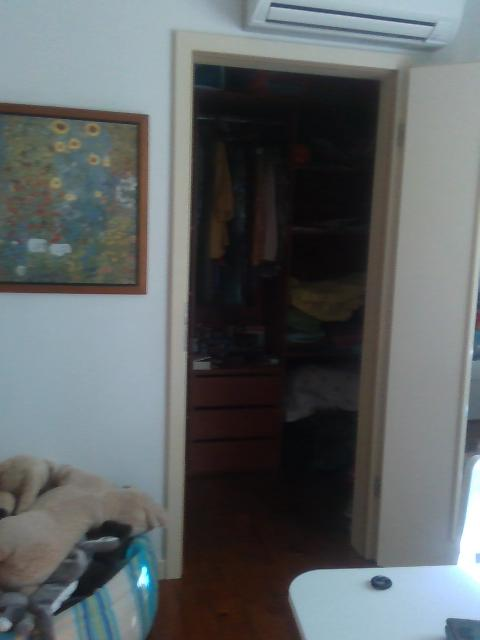open_door: (164, 27, 418, 563)
